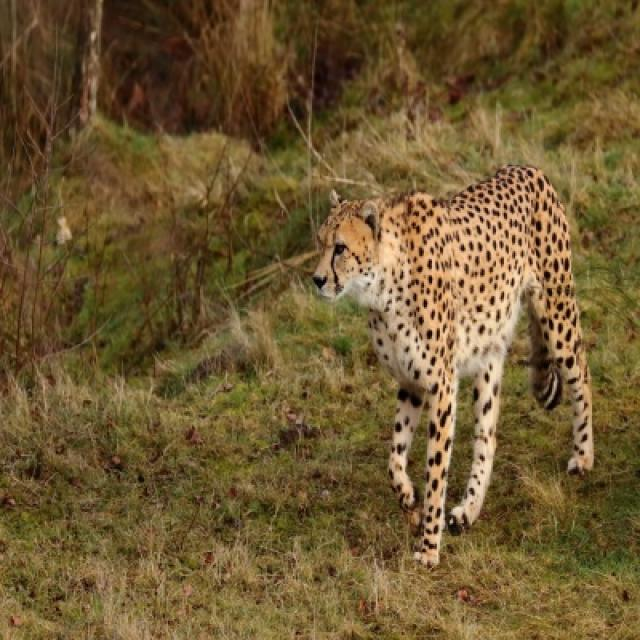Cheetah: (314, 165, 594, 570)
